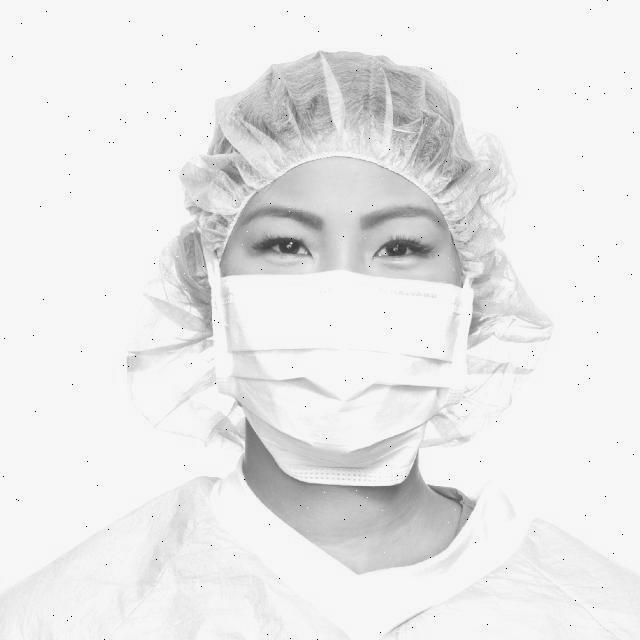fake: (203, 269, 483, 490)
real: (219, 160, 463, 485)
